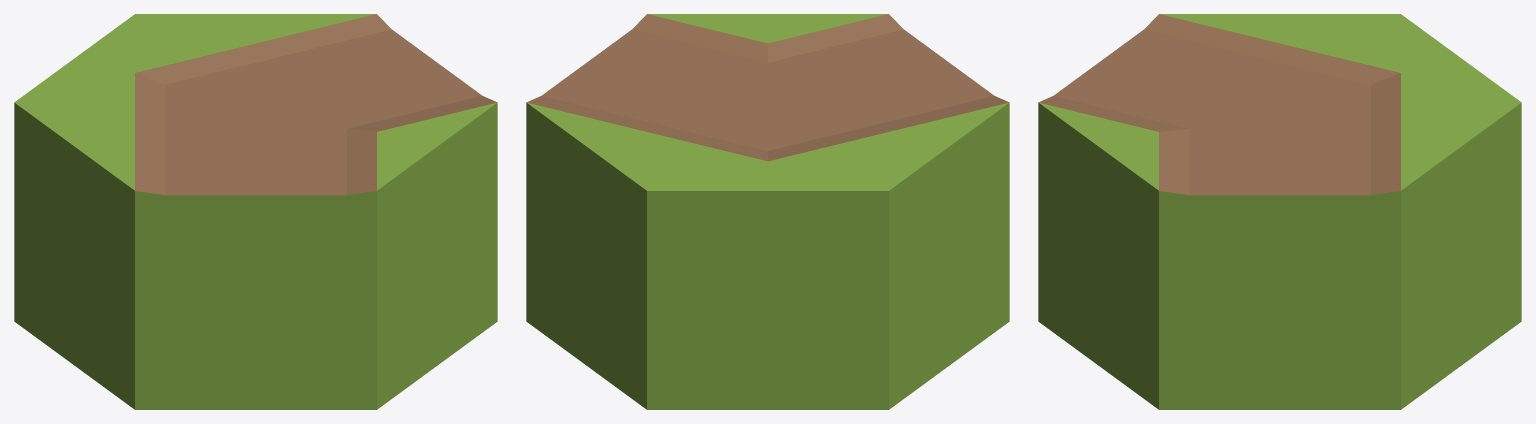
Rendered from road2.fbx.
The picture shows the model from 3 angles, left to right: view 1: azimuth 30°, elevation 25°; view 2: azimuth 150°, elevation 25°; view 3: azimuth 270°, elevation 25°; orthographic projection.
Visible parts, largest first — view 1: Cylinder; view 2: Cylinder; view 3: Cylinder.
Boxes of the visible parts, x1,y1,x2,y2 form: Cylinder: (14, 14, 497, 409); Cylinder: (526, 14, 1009, 409); Cylinder: (1038, 14, 1521, 409).
Size of the model in its own units: 1.73 by 1 by 2.
